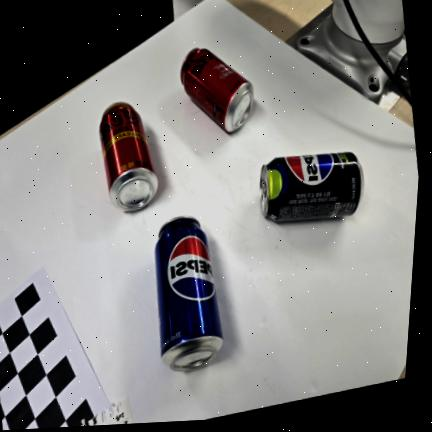can_coke_decaf: (99, 102, 158, 211)
can_coke_zero: (181, 49, 254, 132)
can_pepsi: (155, 216, 223, 371)
can_pepsi_zero: (260, 152, 363, 222)
